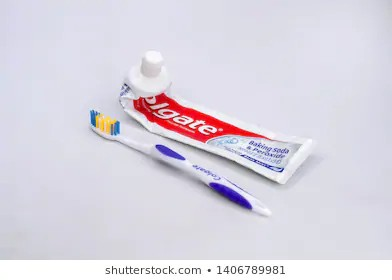toothbrush: (82, 105, 275, 218)
